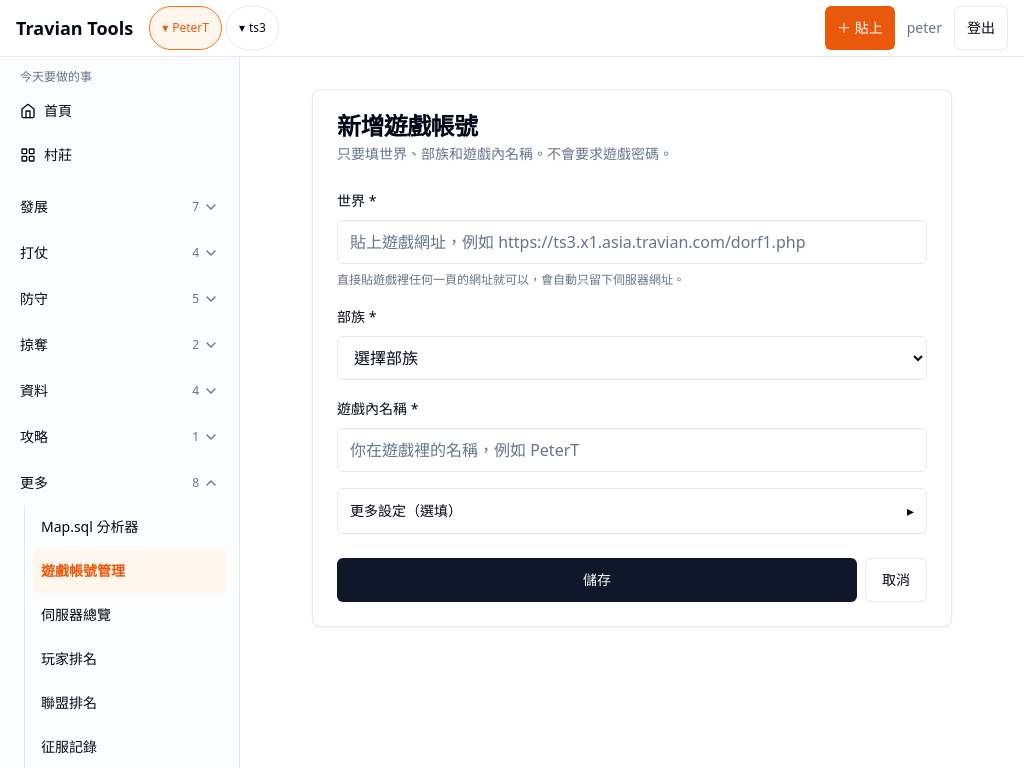
Test: /game-accounts/new › returns to the account list on cancel
This screenshot has width=1024, height=768.
Click the button "取消".
click(896, 580)  # box [865,558,927,602]
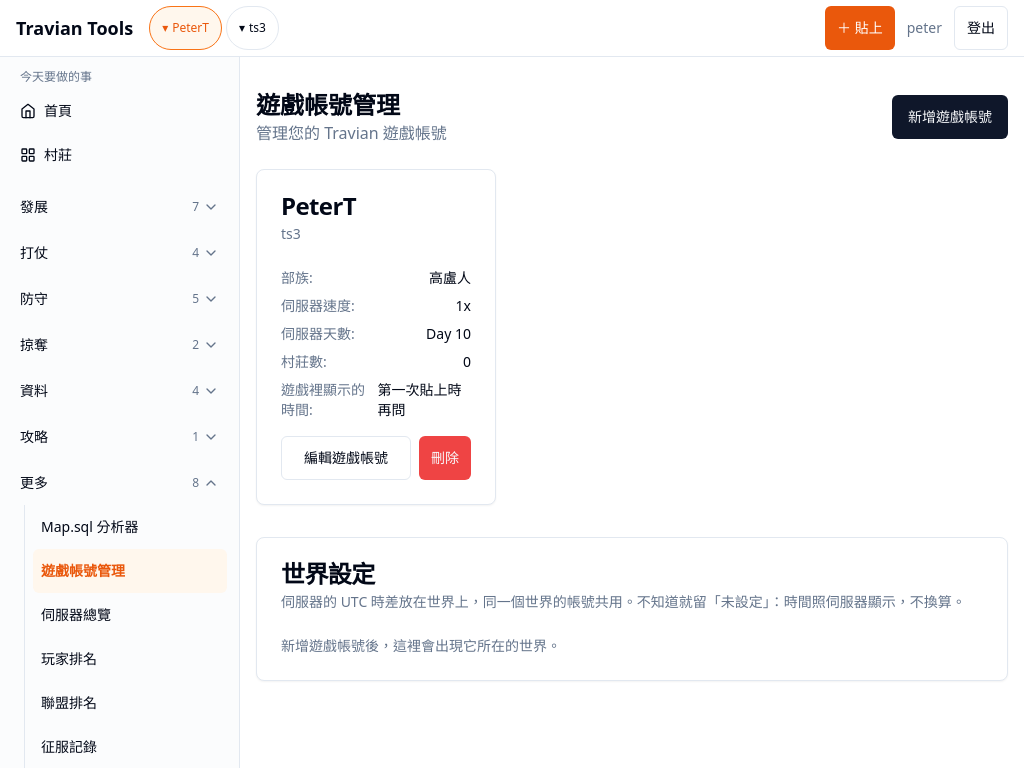
Result: the heading "遊戲帳號管理" is shown at [256,88,400,121]
